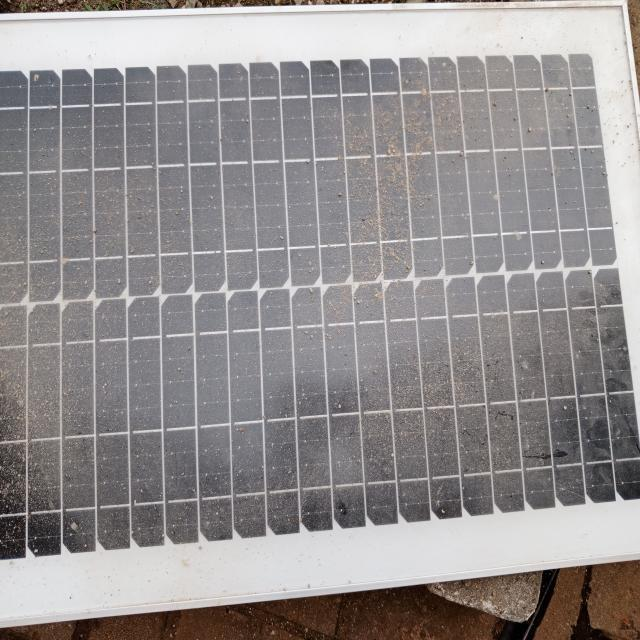Surface Contaminant: (6, 34, 617, 542)
